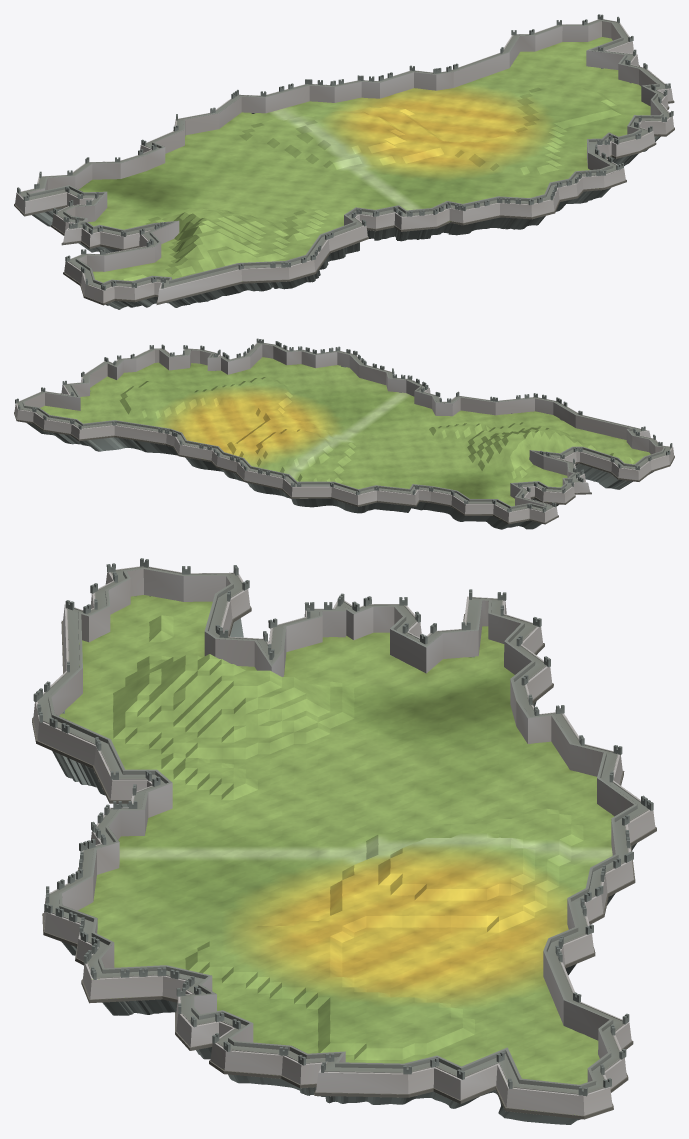
The picture shows the model from 3 angles, top to bottom: view 1: azimuth 30°, elevation 25°; view 2: azimuth 150°, elevation 25°; view 3: azimuth 270°, elevation 25°; orthographic projection. The views are drawn at different scales.
Visible parts, largest first — view 1: ground_411a69f9; view 2: ground_411a69f9; view 3: ground_411a69f9.
Part boxes in pixels (x1,y1,x2,y2): ground_411a69f9: [14, 14, 674, 309]; ground_411a69f9: [14, 338, 674, 529]; ground_411a69f9: [32, 558, 656, 1124].
Size of the model in its own units: 157 by 9 by 77.8.
Materials: 3 (1 with a texture image).
